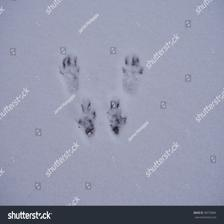squirrel: (56, 54, 82, 94), (75, 101, 98, 141)
